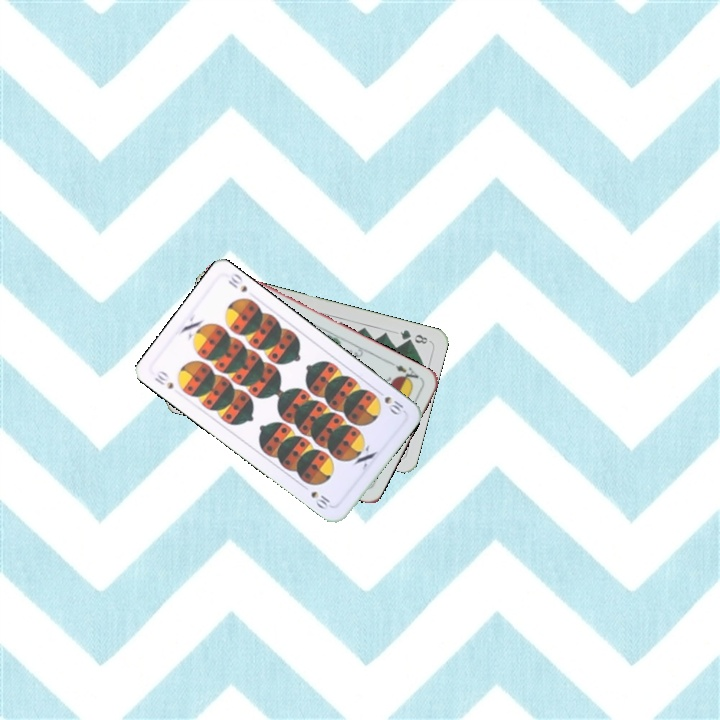EA: (386, 357, 424, 386)
G8: (396, 325, 432, 346)
S10: (372, 386, 406, 418), (150, 366, 176, 392)
